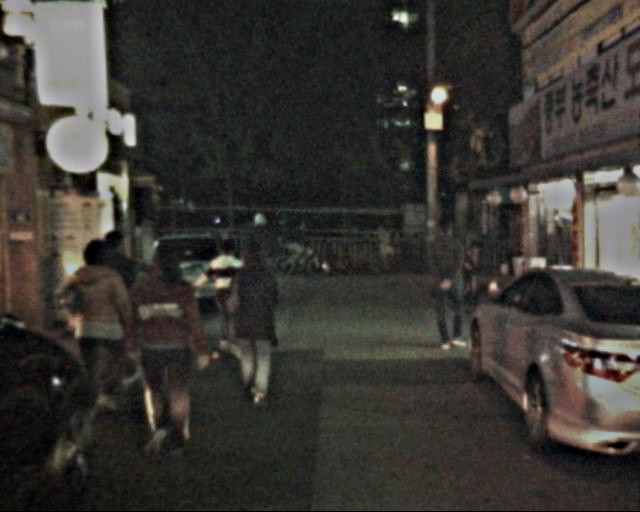person: (126, 242, 212, 452), (220, 240, 292, 411), (68, 242, 136, 408), (88, 228, 152, 386), (420, 214, 476, 351), (202, 238, 251, 354), (242, 213, 289, 329), (278, 214, 308, 273)
